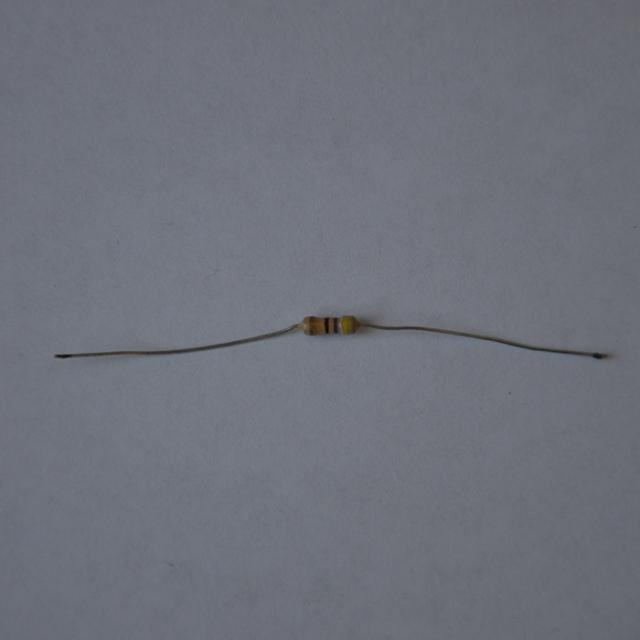brown: (324, 316, 329, 334)
gold: (310, 317, 315, 333)
resistor: (301, 310, 360, 339)
violet: (332, 318, 338, 332)
yellow: (344, 315, 349, 332)
